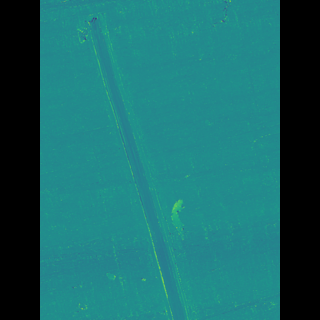Loch: (94, 13, 189, 319)
